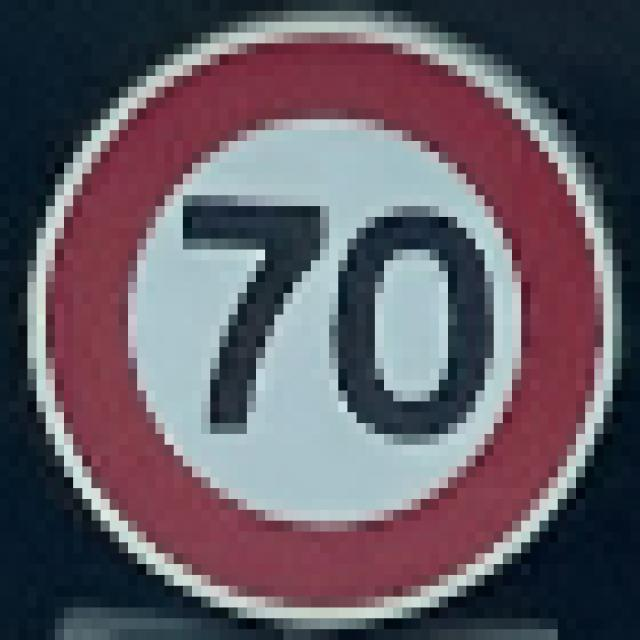speed_70: (22, 0, 631, 629)
